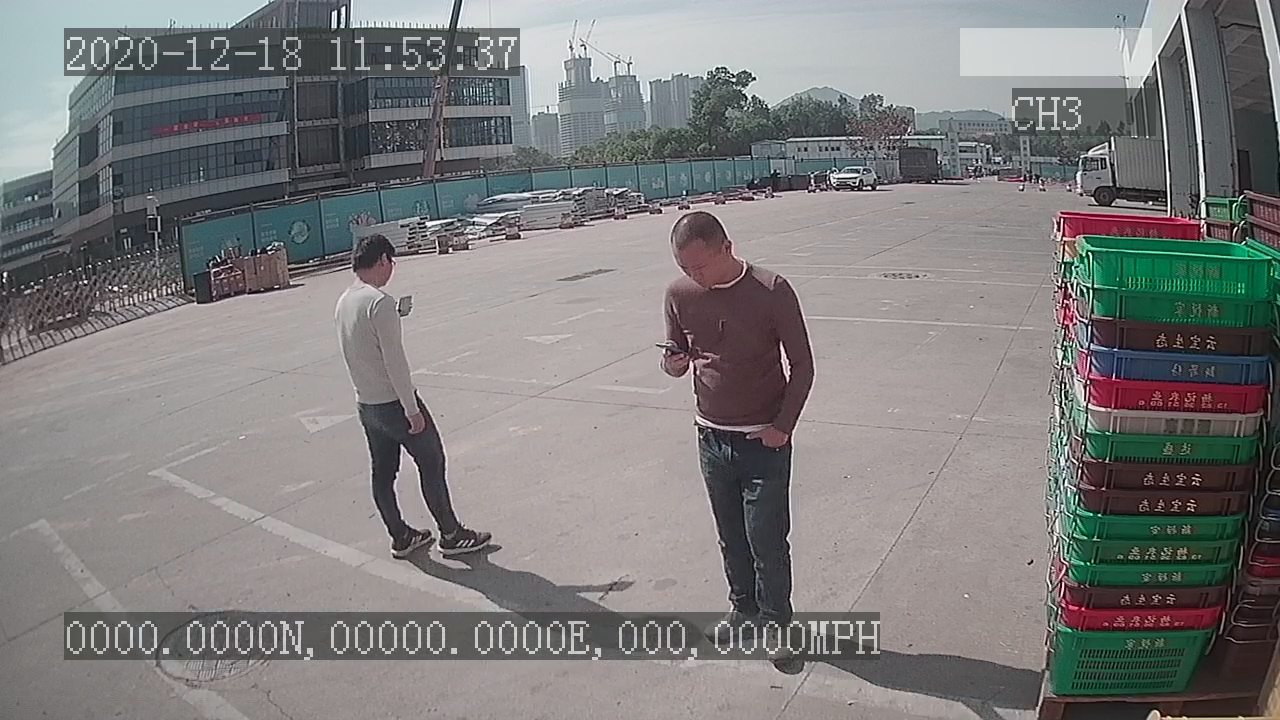person: (326, 226, 506, 570)
